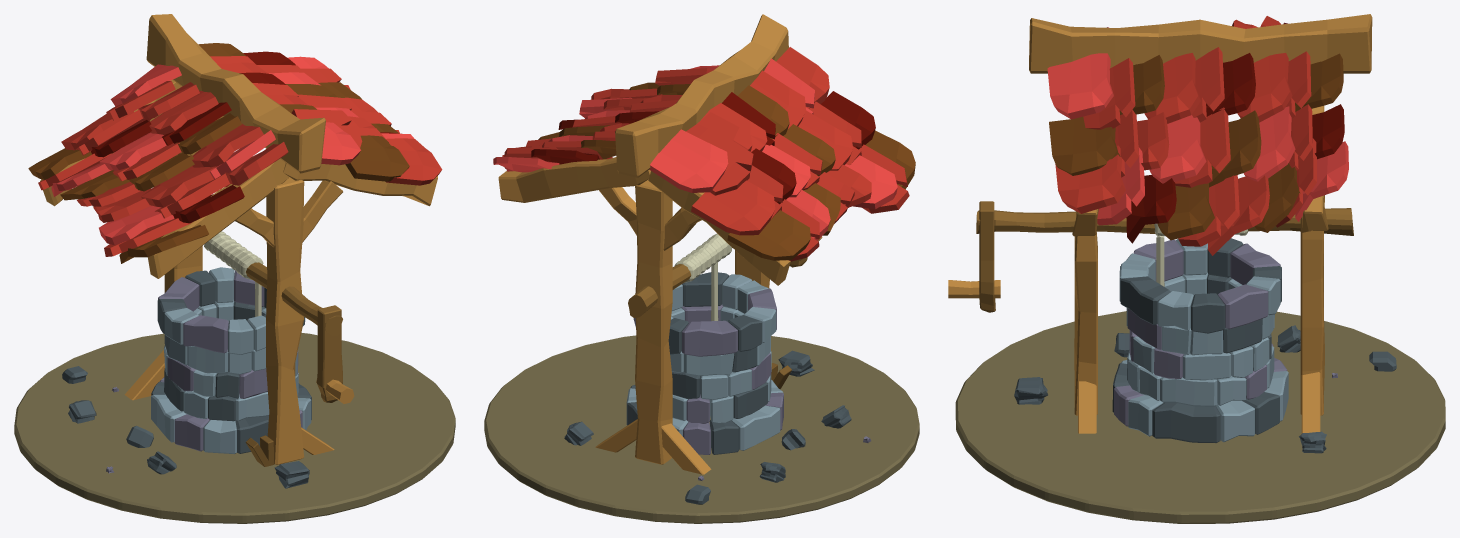
Rendered from fire.fbx.
The picture shows the model from 3 angles, left to right: view 1: azimuth 30°, elevation 25°; view 2: azimuth 150°, elevation 25°; view 3: azimuth 270°, elevation 25°; orthographic projection. The views are drawn at different scales.
Visible parts, largest first — view 1: Circle, Plane.011, Cube.002, Cube, Plane.029, Cube.004, Cylinder.001, Rocks, rope, Cube.006; view 2: Circle, Plane.011, Cube, Cube.002, Plane.029, Cube.004, Rocks, rope, Cylinder.001; view 3: Circle, Plane.029, Cube.002, Cube.004, Cube, Cylinder.001, Rocks, rope.
Boxes of the visible parts, bbox=[...] form: Circle: bbox=[14, 333, 455, 523]; Plane.011: bbox=[28, 64, 288, 263]; Cube.002: bbox=[151, 267, 311, 454]; Cube: bbox=[40, 80, 437, 464]; Plane.029: bbox=[198, 43, 442, 185]; Cube.004: bbox=[146, 14, 325, 173]; Cylinder.001: bbox=[246, 262, 354, 403]; Rocks: bbox=[62, 366, 309, 488]; rope: bbox=[204, 231, 263, 316]; Cube.006: bbox=[245, 435, 274, 466]; Circle: bbox=[484, 335, 919, 523]; Plane.011: bbox=[649, 47, 915, 261]; Cube: bbox=[498, 157, 790, 474]; Cube.002: bbox=[626, 272, 783, 454]; Plane.029: bbox=[493, 65, 719, 172]; Cube.004: bbox=[615, 14, 788, 177]; Rocks: bbox=[564, 350, 871, 504]; rope: bbox=[674, 233, 731, 321]; Cylinder.001: bbox=[628, 236, 822, 317]; Circle: bbox=[955, 311, 1445, 523]; Plane.029: bbox=[1047, 47, 1348, 255]; Cube.002: bbox=[1112, 238, 1288, 442]; Cube.004: bbox=[1029, 14, 1372, 73]; Cube: bbox=[1072, 106, 1328, 433]; Cylinder.001: bbox=[948, 201, 1353, 312]; Rocks: bbox=[1014, 325, 1396, 453]; rope: bbox=[1154, 223, 1248, 286].
Size of the model in its own units: 1641 by 1557 by 1666.
